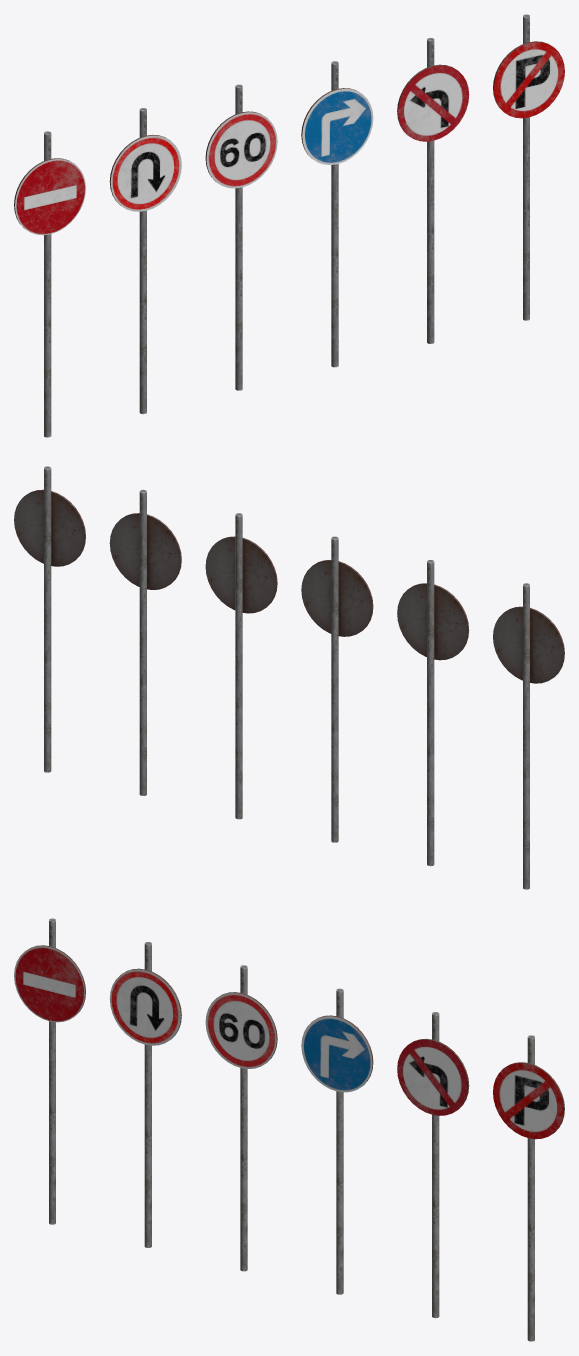
The model's file is road-signs.glb.
3 views of the same model, one above another, from view 1: azimuth 30°, elevation 25°; view 2: azimuth 150°, elevation 25°; view 3: azimuth 330°, elevation 25° (orthographic).
Visible parts, largest first — view 1: Road_Sign_03, Road_Sign_05, Road_Sign_01, Road_Sign_04, Road_Sign_02, Road_Sign_06; view 2: Road_Sign_04, Road_Sign_06, Road_Sign_02, Road_Sign_03, Road_Sign_05, Road_Sign_01; view 3: Road_Sign_04, Road_Sign_02, Road_Sign_03, Road_Sign_06, Road_Sign_05, Road_Sign_01.
Part boxes in pixels (x1,y1,x2,y2): Road_Sign_03: (205, 84, 277, 390); Road_Sign_05: (397, 37, 469, 343); Road_Sign_01: (14, 131, 85, 437); Road_Sign_04: (301, 61, 373, 367); Road_Sign_02: (109, 108, 181, 414); Road_Sign_06: (493, 14, 564, 320); Road_Sign_04: (205, 513, 277, 819); Road_Sign_06: (14, 466, 85, 772); Road_Sign_02: (397, 560, 469, 866); Road_Sign_03: (301, 536, 373, 842); Road_Sign_05: (109, 489, 181, 795); Road_Sign_01: (493, 583, 564, 889); Road_Sign_04: (301, 988, 373, 1294); Road_Sign_02: (109, 941, 181, 1247); Road_Sign_03: (205, 965, 277, 1271); Road_Sign_06: (493, 1035, 564, 1341); Road_Sign_05: (397, 1012, 469, 1318); Road_Sign_01: (14, 918, 85, 1224).
Bounding box in the file's own units: 5.74 × 3.02 × 0.0863.
1 material, 1 textured.
